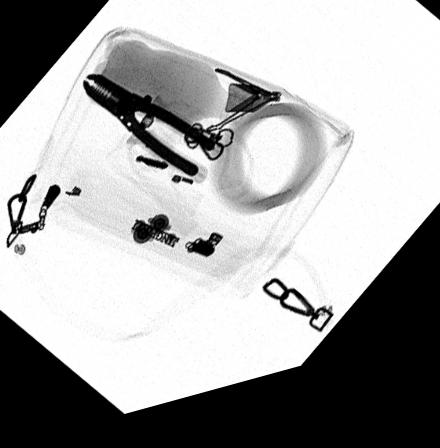Pliers: (80, 77, 217, 188)
